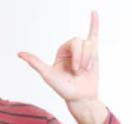clockwise: (15, 7, 102, 98)
